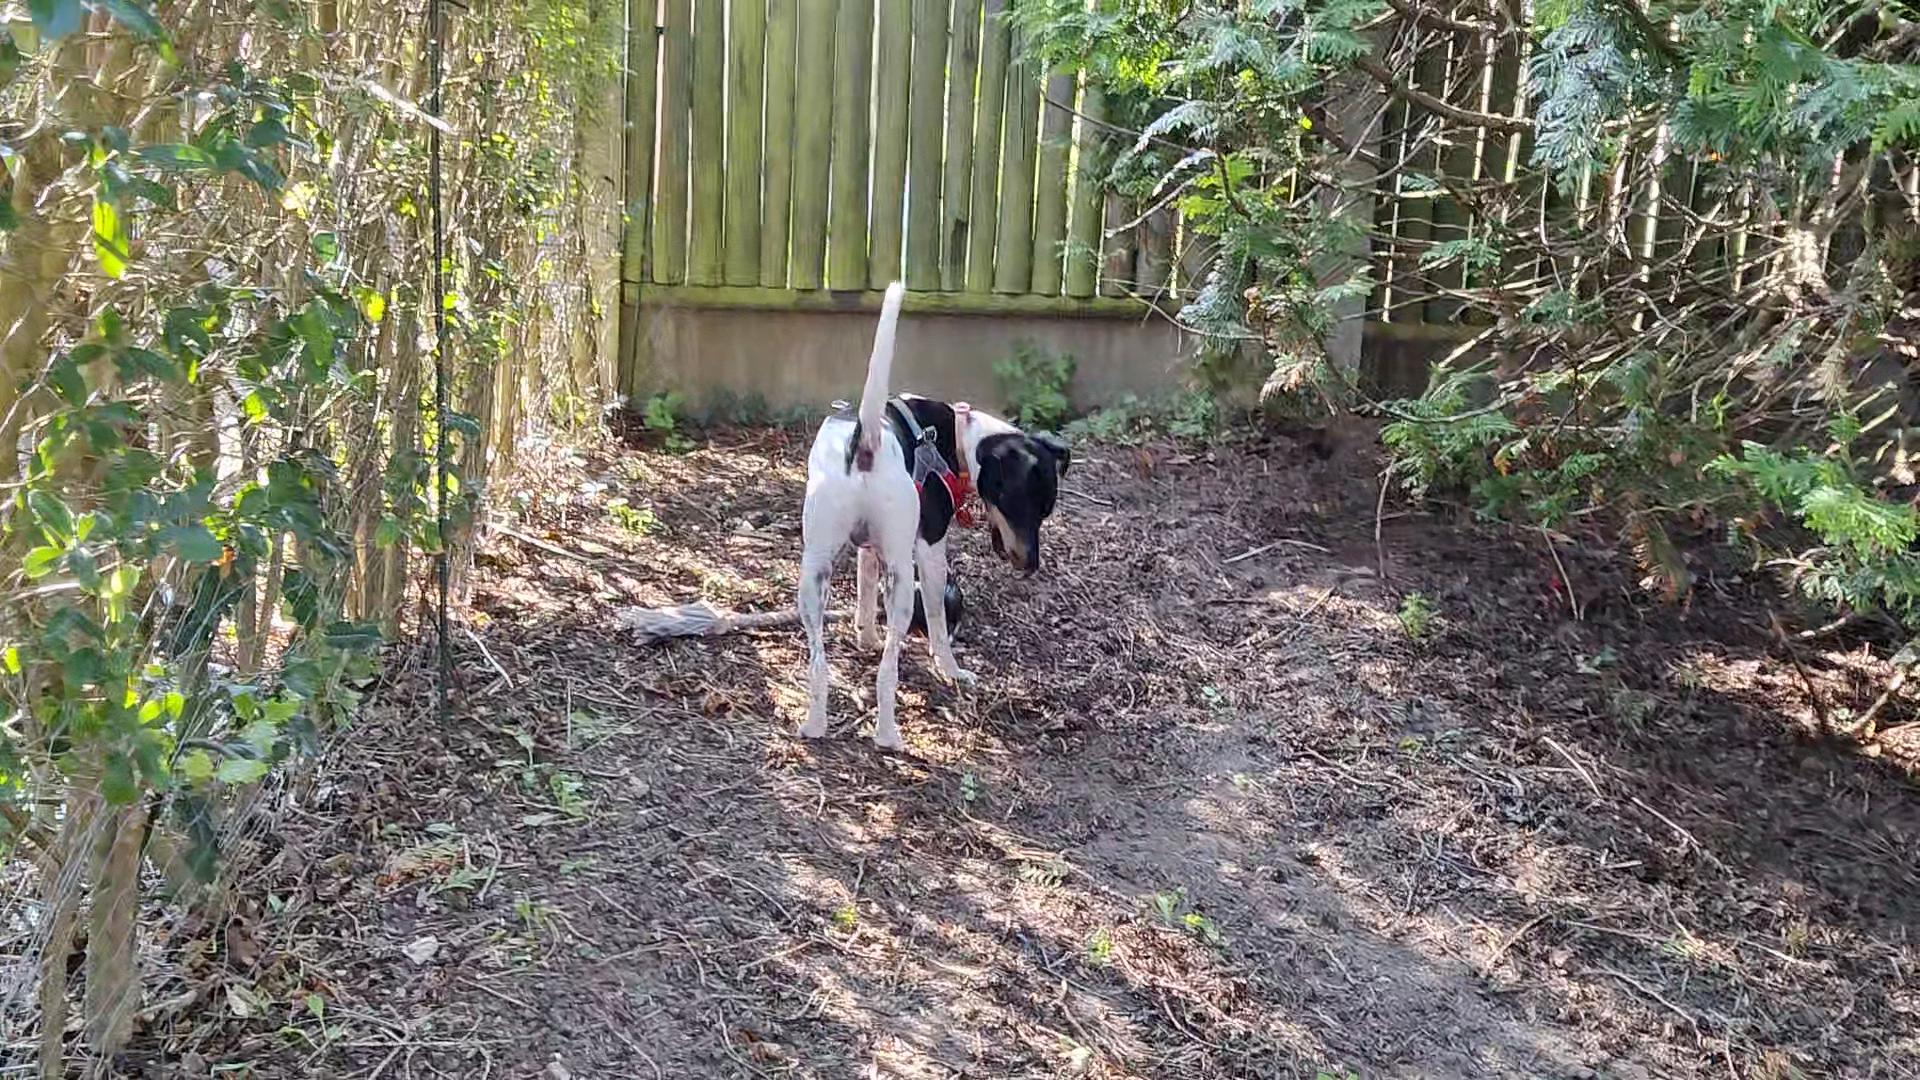Dog: (765, 258, 1091, 764)
